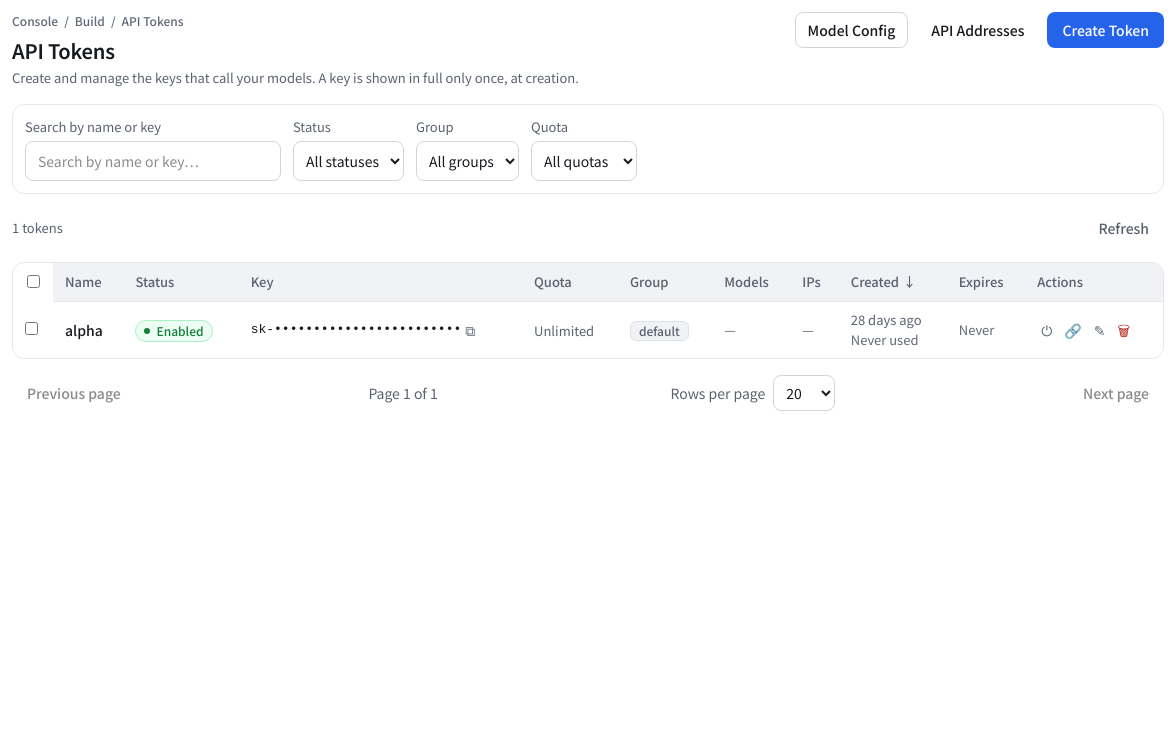
Test: TokenListPage › disables a token through the row power action
expect the text "alpha" is shown: met, box [53,301,123,358]
Click the button named "Disable alpha".
click(1047, 330)  # box [1037,318,1056,340]
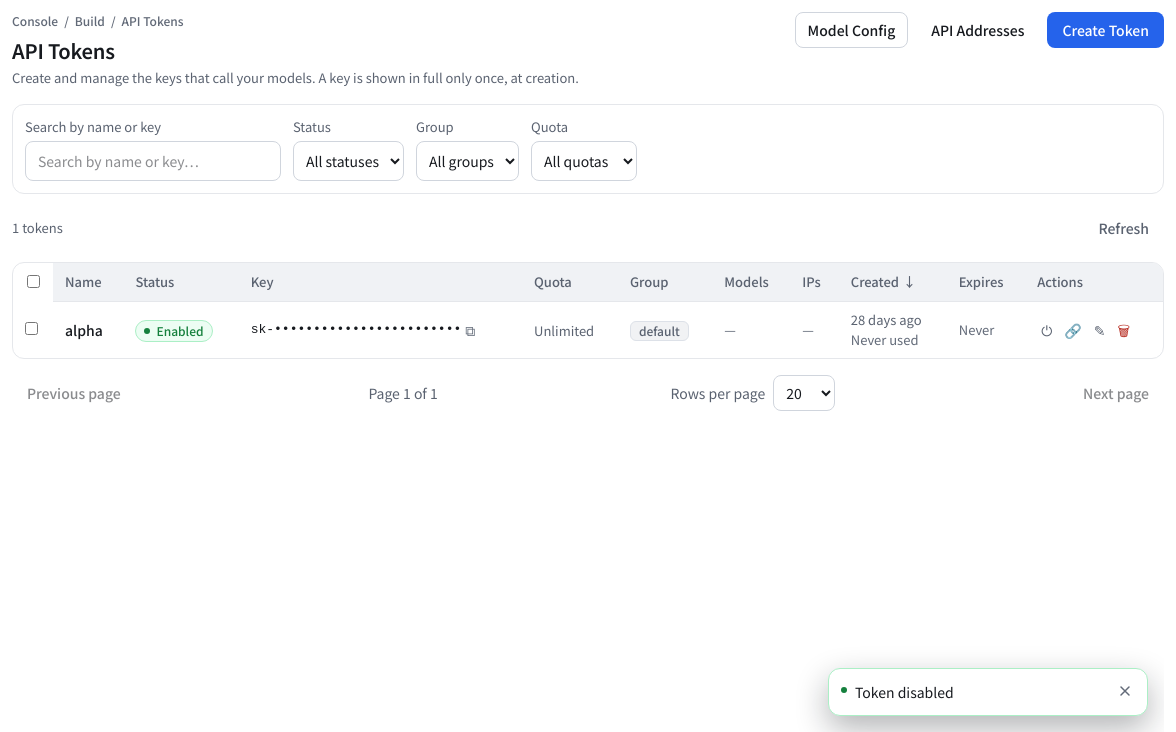
expect the text "Token disabled" is shown: met, box [855,682,954,702]
